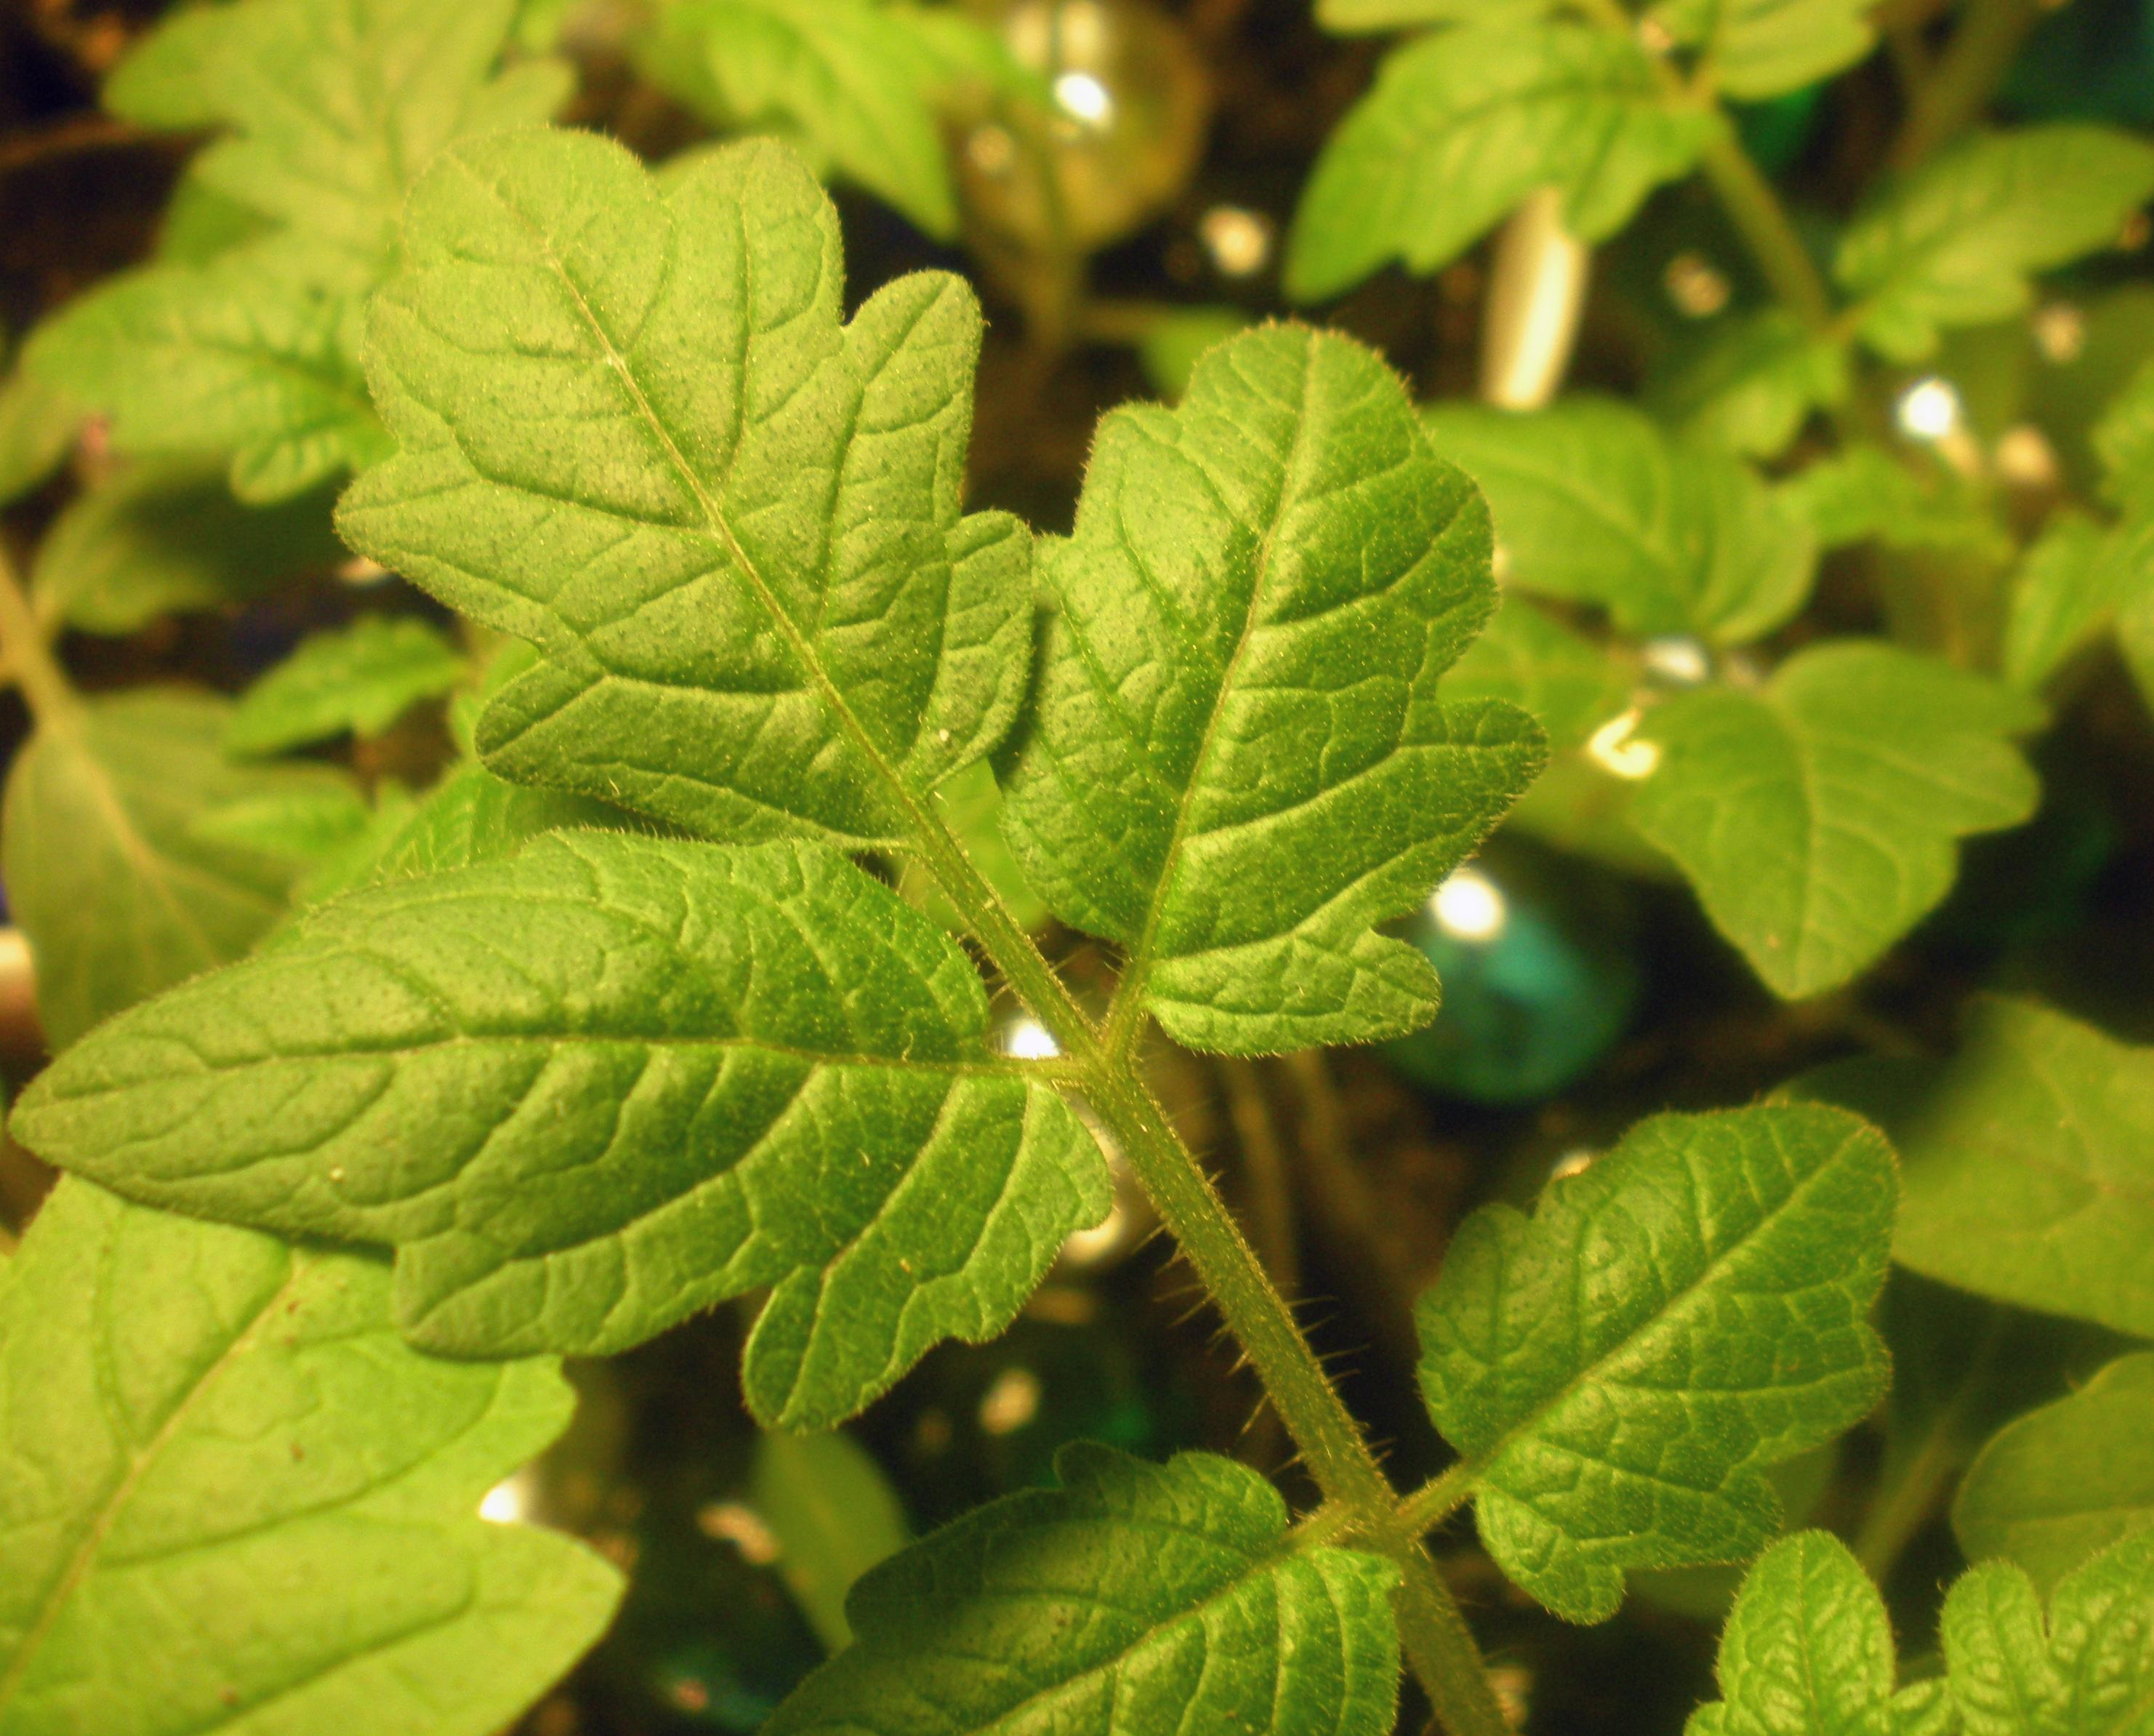Tomato leaf: (0, 845, 1132, 1421), (337, 110, 1019, 880), (969, 299, 1548, 1135), (1352, 1054, 1950, 1577), (723, 1417, 1414, 1736), (1582, 632, 2051, 1011), (1254, 0, 1732, 303), (1403, 356, 1821, 654)
